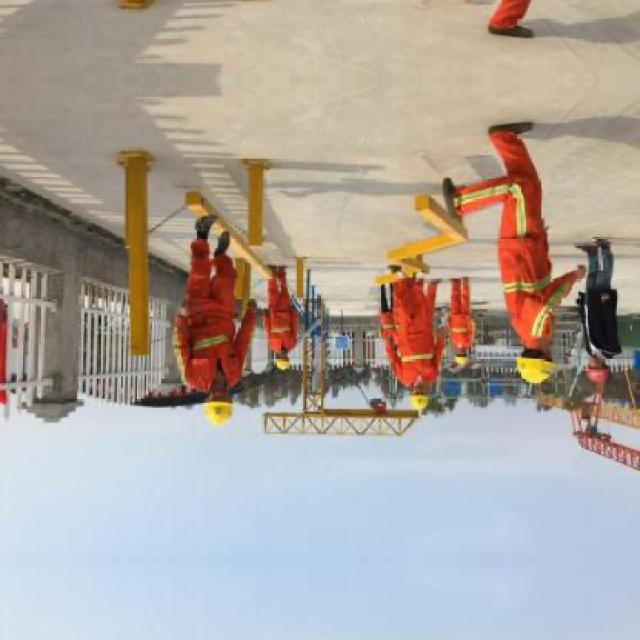con casco: (491, 294, 618, 399), (154, 378, 246, 424), (368, 378, 445, 422), (416, 339, 462, 378)
